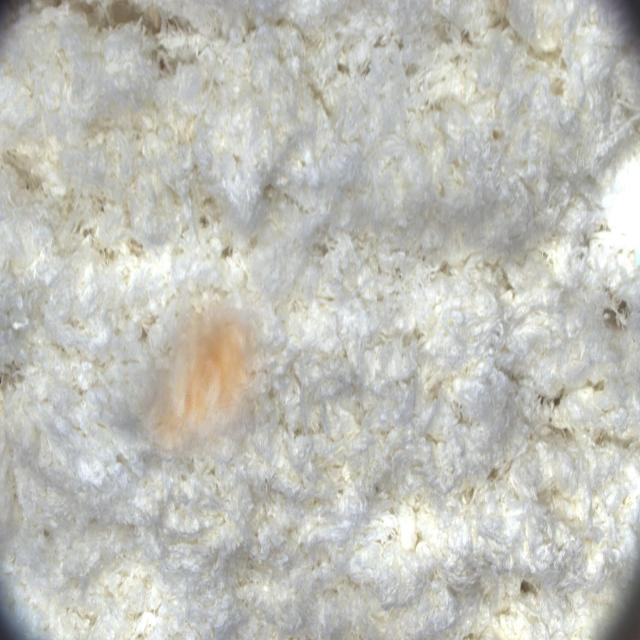dust: (137, 292, 277, 459)
